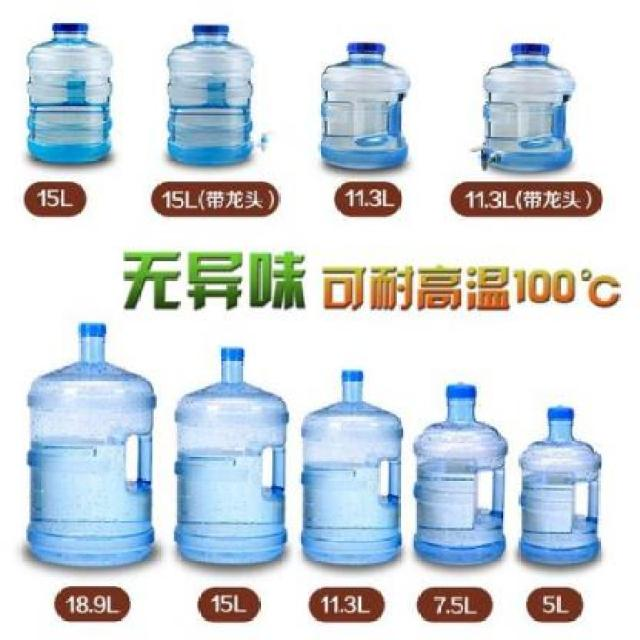coolerbottle: (23, 318, 159, 570), (172, 343, 293, 569), (298, 364, 408, 572), (412, 378, 512, 568), (517, 402, 607, 572), (472, 35, 578, 178), (25, 17, 120, 167), (165, 19, 259, 170), (314, 36, 414, 174)
